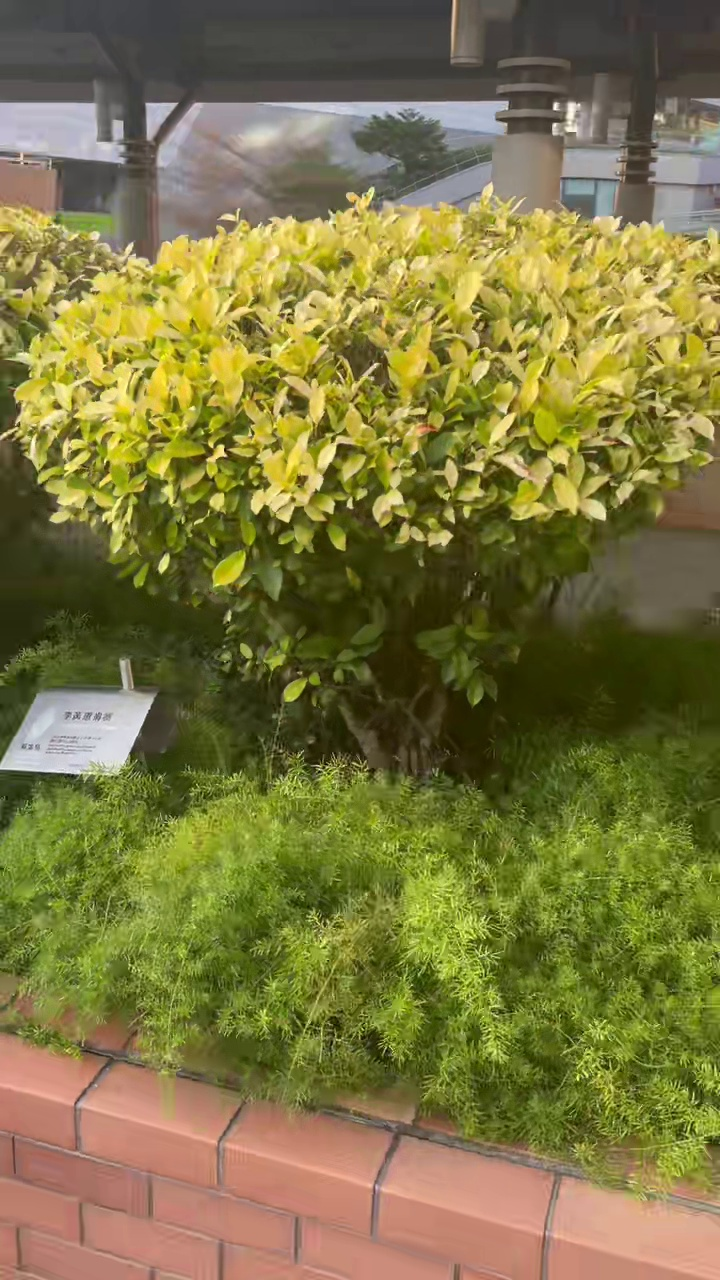Golden-leaves Fig: (17, 193, 719, 763)
